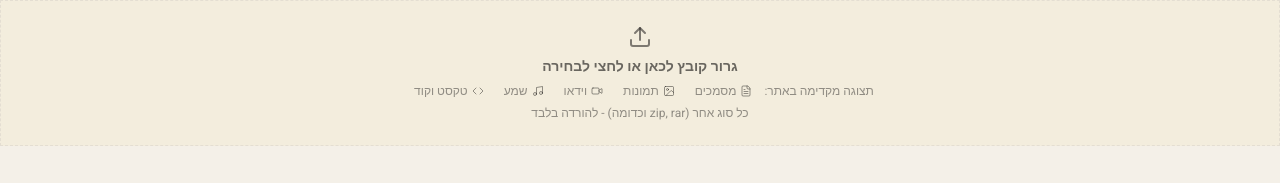
PreviewableTypes › spells out a group on tap without opening the file picker around it
Click the button "וידאו".
click(583, 91)  # box 556,81 -> 611,101
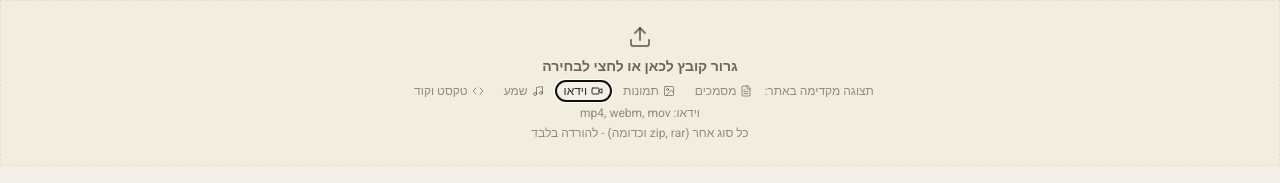
Check: the message reads "וידאו: mp4, webm, mov", box 580,104 -> 700,122
Check: the button "וידאו" is expanded
Click the button "וידאו".
click(583, 91)  # box 556,81 -> 611,101
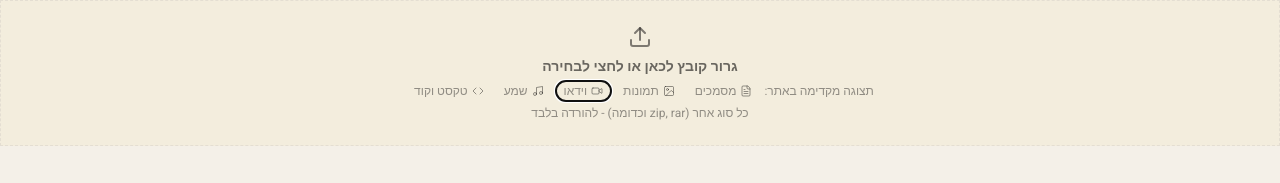
Check: the text "כל סוג אחר (zip, rar וכדומה) - להורדה בלבד" is shown, box 531,104 -> 749,122
Check: the message "וידאו: mp4, webm, mov" is gone
